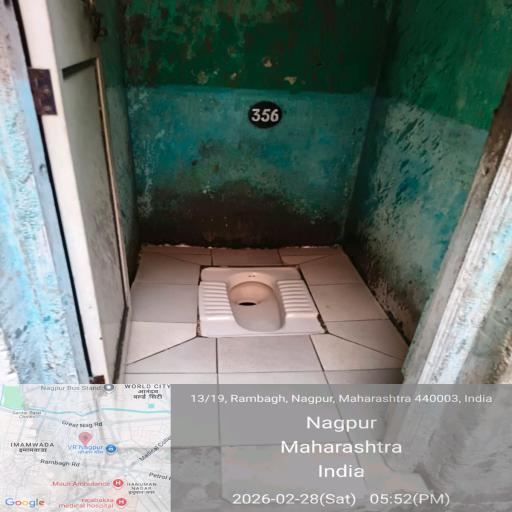clean_floor: (111, 327, 487, 512)
clean_indian: (182, 248, 346, 356)
dirty_floor: (90, 18, 479, 254)
